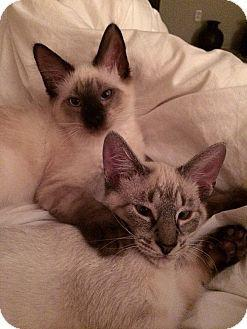siamese: (28, 17, 157, 156)
